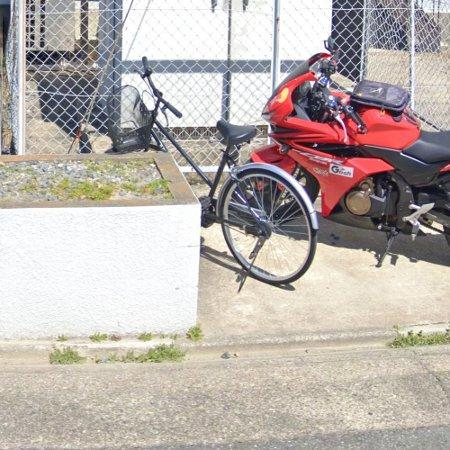bicycles: (110, 57, 319, 285)
